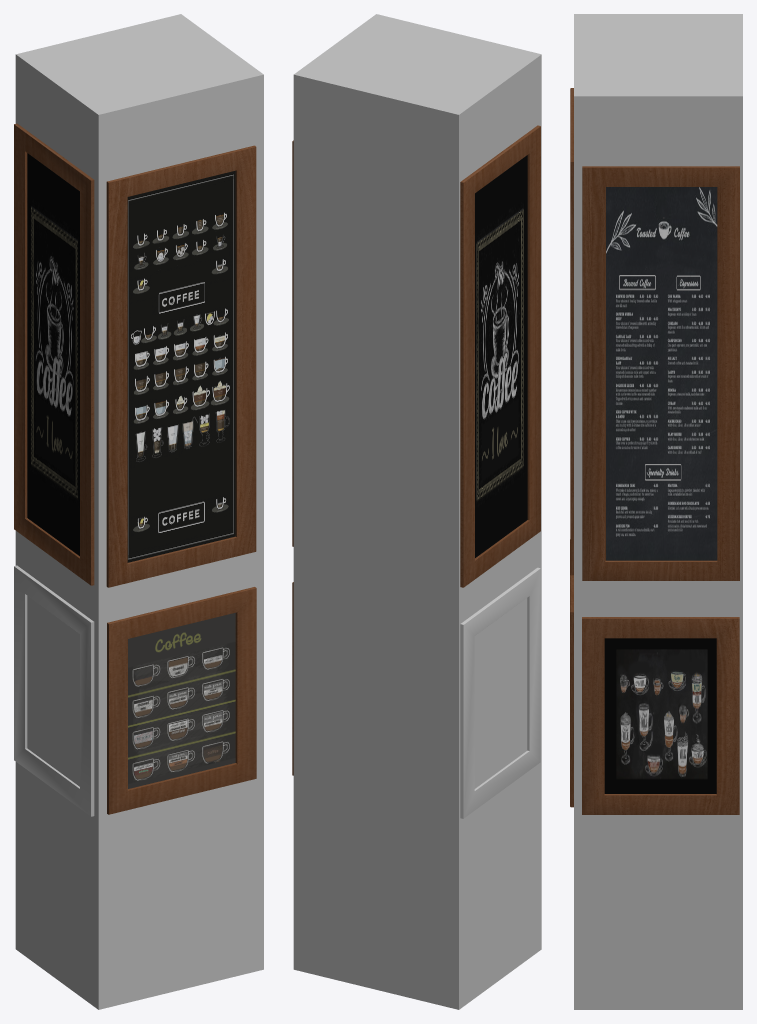
Rendered from Column.fbx.
3 views of the same model, side by side, from view 1: azimuth 30°, elevation 25°; view 2: azimuth 150°, elevation 25°; view 3: azimuth 270°, elevation 25° (orthographic). The views are drawn at different scales.
Visible parts, largest first — view 1: column, Wall pic 1, Wall pic 4, Wall pic 2, Wall pic 6; view 2: column, Wall pic 4, Wall pic 6, Wall pic 3; view 3: column, Wall pic 3, Wall pic 5, Wall pic 1, Wall pic 2.
Boxes of the visible parts, x1,y1,x2,y2 form: column: [15, 14, 263, 1009]; Wall pic 1: [106, 145, 256, 587]; Wall pic 4: [14, 123, 94, 585]; Wall pic 2: [107, 587, 256, 814]; Wall pic 6: [14, 565, 94, 816]; column: [293, 14, 541, 1009]; Wall pic 4: [460, 125, 540, 587]; Wall pic 6: [460, 567, 540, 818]; Wall pic 3: [292, 140, 293, 546]; column: [574, 14, 742, 1009]; Wall pic 3: [582, 166, 739, 580]; Wall pic 5: [582, 617, 739, 814]; Wall pic 1: [570, 88, 573, 575]; Wall pic 2: [570, 539, 573, 807].
Bounding box in the file's own units: 583 × 2898 × 496.
